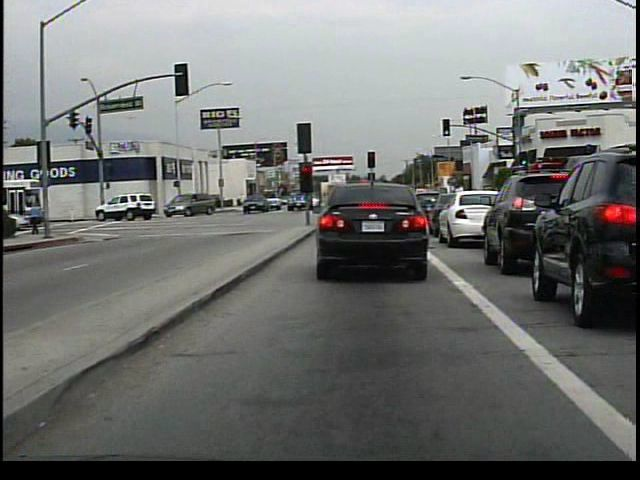person: (29, 198, 47, 240), (239, 188, 248, 209)
